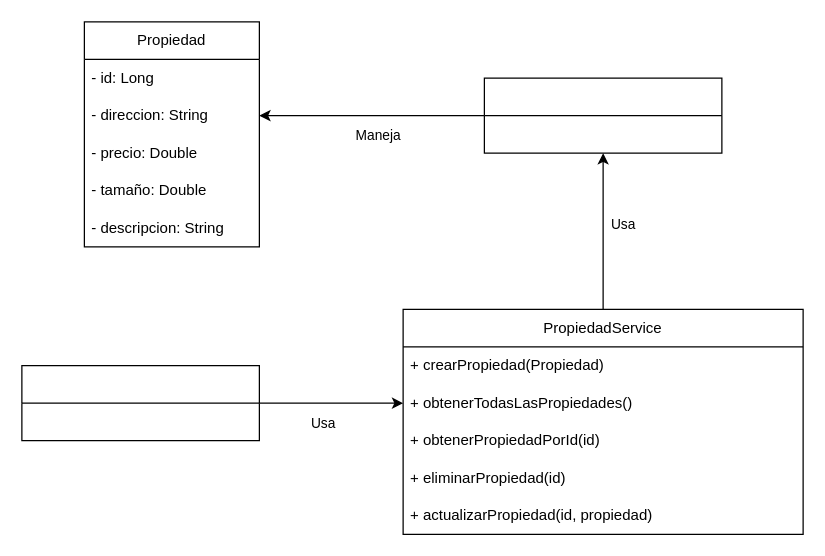
This 825x556 diagram has some shape labels left out. Each missing label, with the centre of its shape:
"<<JpaRepository>> PropiedadRepository" goes at point 602,115.
"<<RestController>> PropiedadController" goes at point 140,402.
